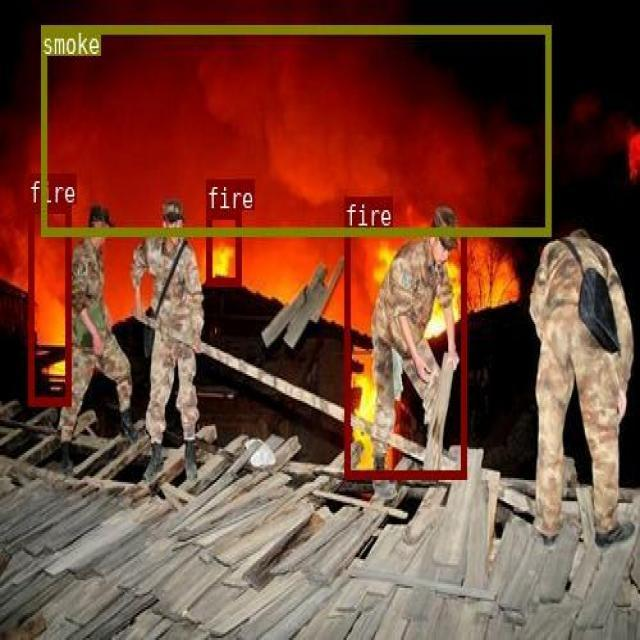fire: (344, 226, 465, 477), (28, 204, 70, 404), (205, 209, 240, 285)
smoke: (40, 25, 550, 234)
